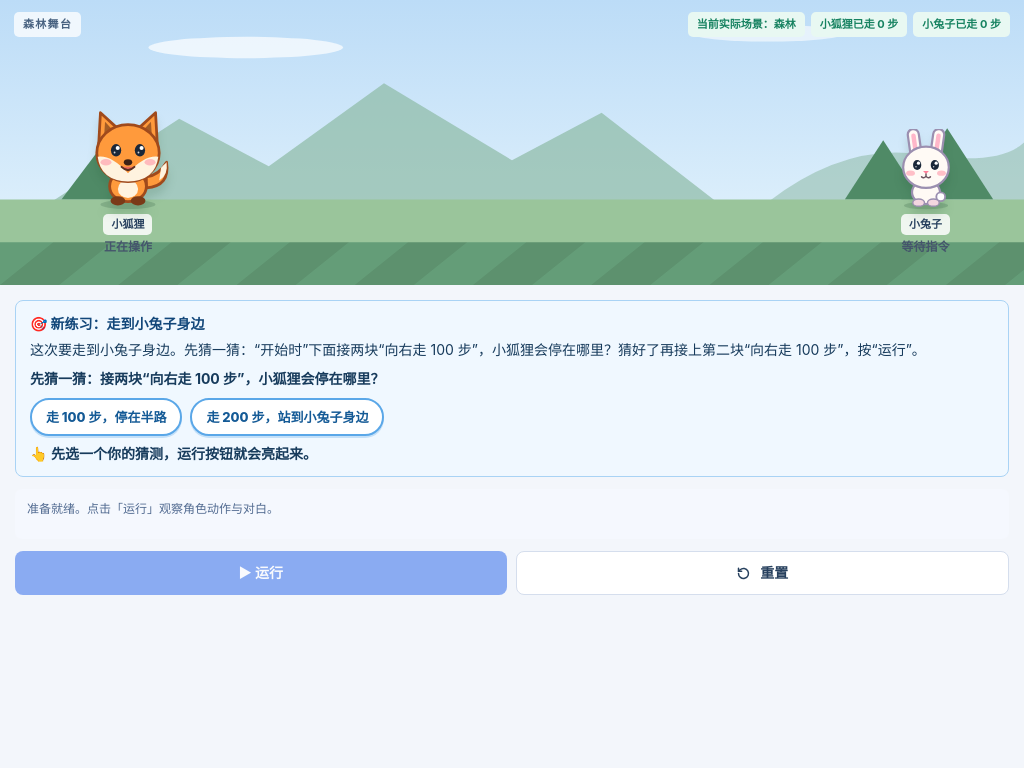
Test: PlayableStage second practice (TQ-011) › predict (L01): a program that stops short is a real failed run with the specific reason
Step 1. Click the button with test id "practice-answer-beside-friend" → (287, 417), box [190,398,384,436]
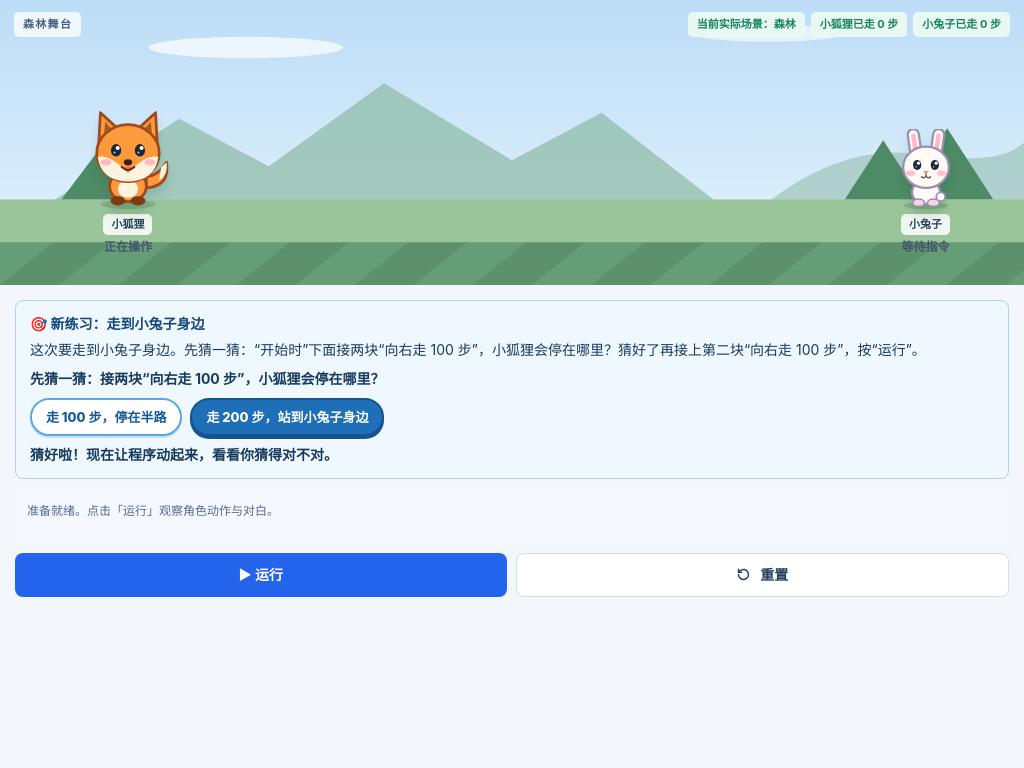
Step 2. Click the button with test id "run-code-button" → (261, 575), box [15,553,506,597]
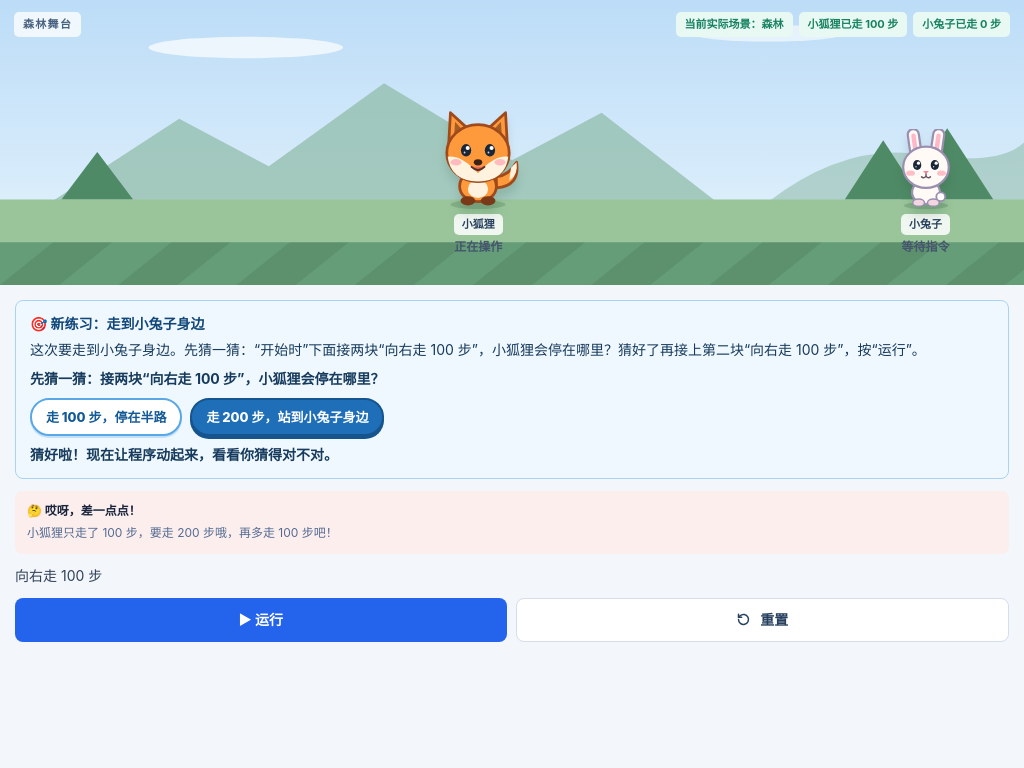
Check: the text with test id "stage-run-reason" shows "小狐狸只走了 100 步，要走 200 步哦", box [27,526,338,540]
